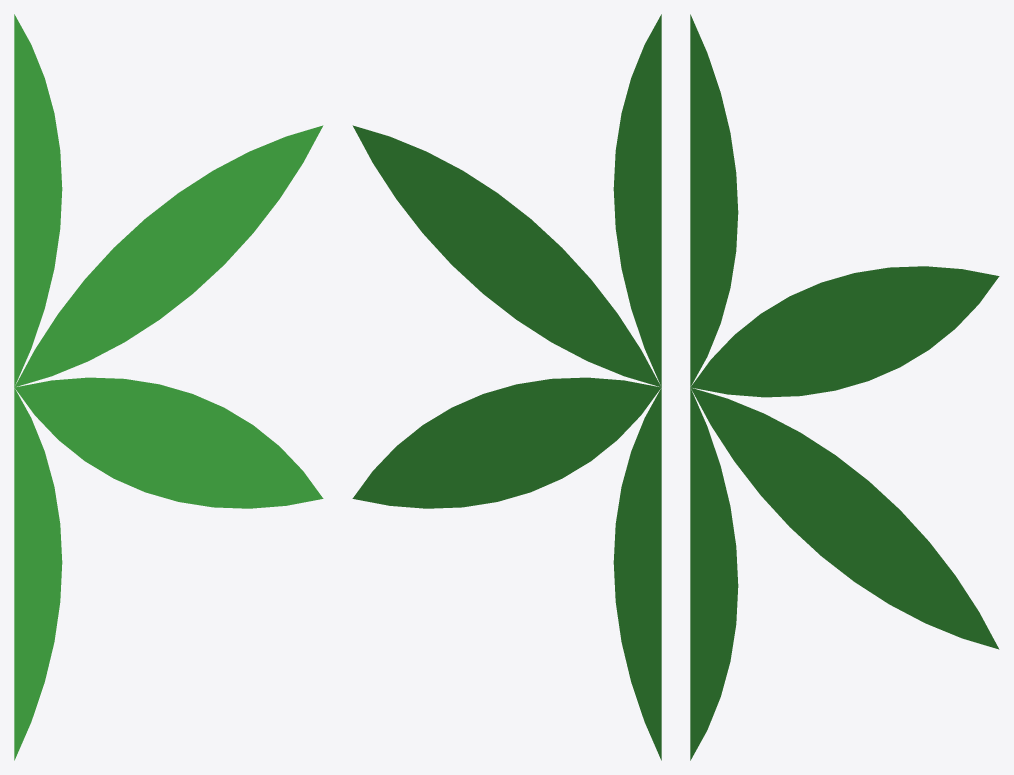
The model's file is seed1c.obj.
The picture shows the model from 3 angles, left to right: view 1: azimuth 30°, elevation 25°; view 2: azimuth 150°, elevation 25°; view 3: azimuth 330°, elevation 25°; orthographic projection.
Bounding box in the file's own units: 0.5 × 1.15 × 0.
